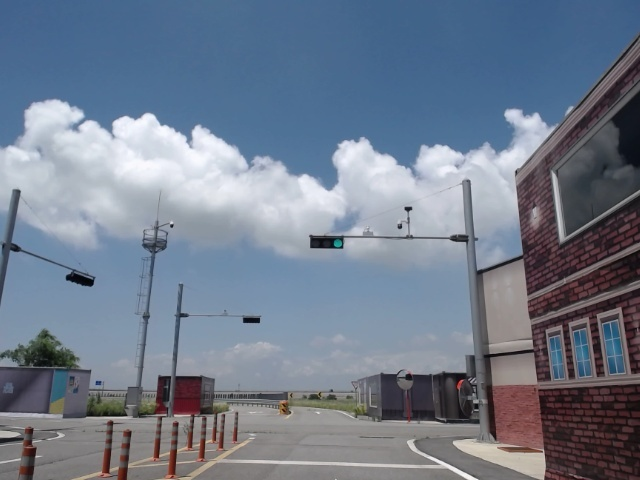green_3: (310, 237, 343, 248)
